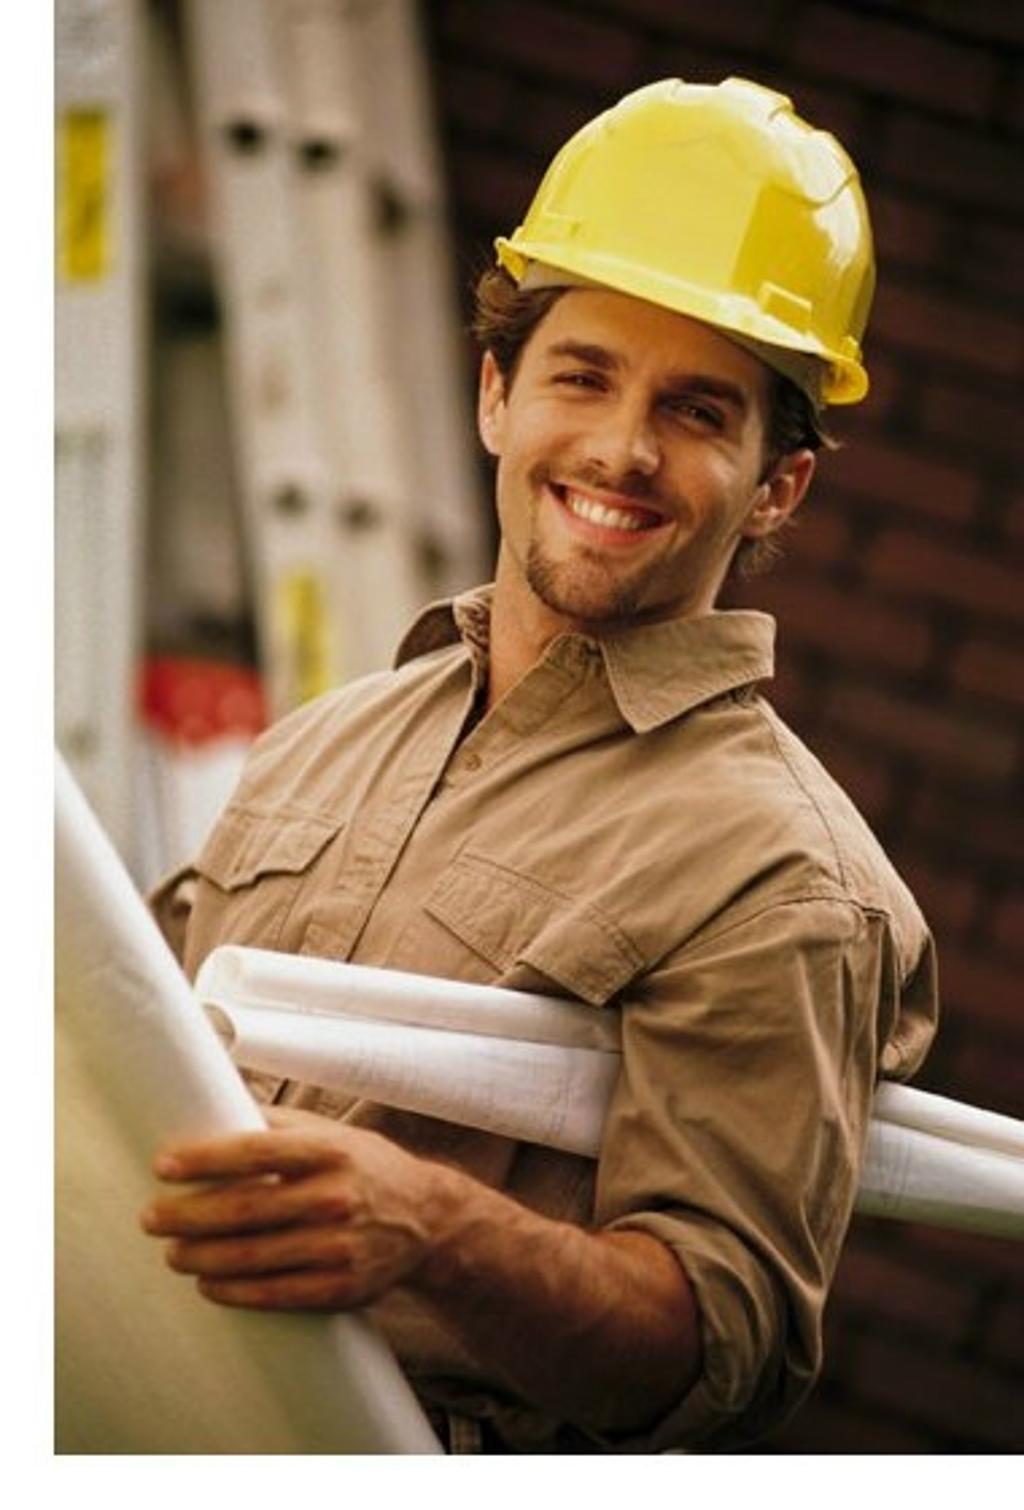face: (513, 263, 734, 591)
